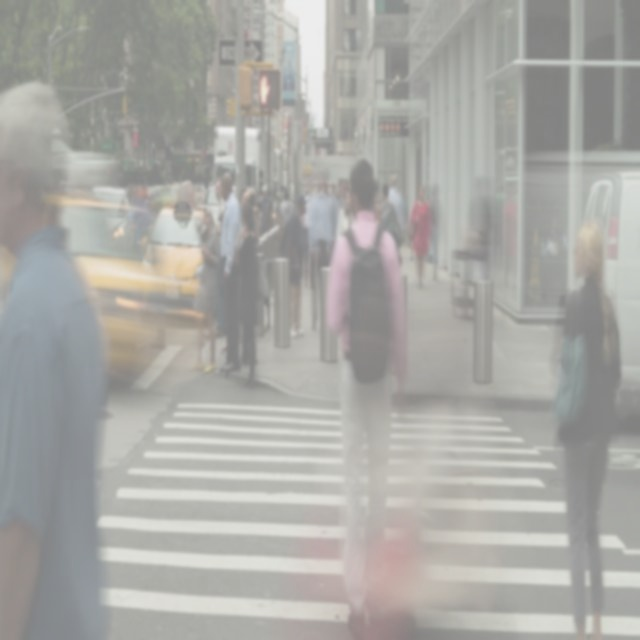pessoa: (0, 77, 121, 639), (326, 153, 408, 639), (544, 212, 627, 639), (463, 136, 520, 308), (216, 168, 244, 376), (528, 174, 570, 308), (192, 209, 222, 376), (234, 201, 260, 391), (252, 162, 278, 340), (307, 178, 337, 332), (278, 192, 308, 339), (210, 174, 229, 338), (406, 181, 434, 292), (380, 183, 402, 264), (296, 194, 310, 290), (334, 187, 356, 240), (321, 168, 349, 209), (387, 169, 405, 232), (430, 178, 442, 270), (300, 164, 320, 214), (278, 173, 296, 227), (327, 208, 340, 258), (371, 174, 383, 227)
